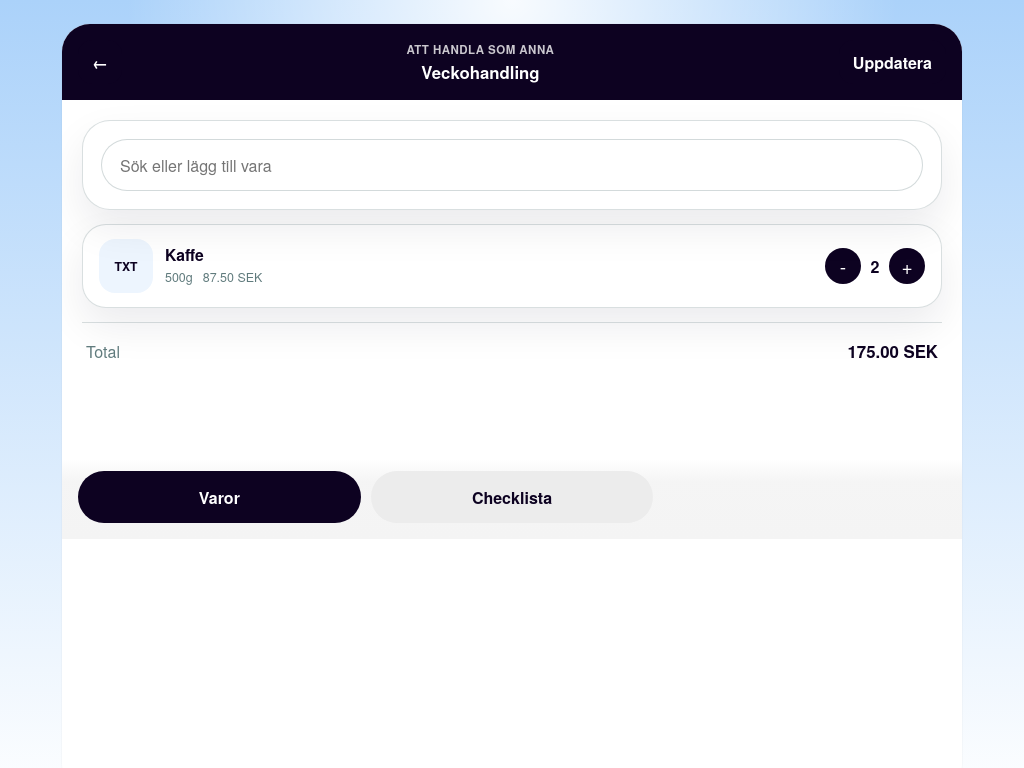
Test: ShoppingListDetailPage › batches repeated varor taps into a single quantity-adjust request
expect the text "Kaffe" is shown: met, box [165, 243, 204, 266]
expect the text "175.00 SEK" is shown: met, box [848, 339, 938, 363]
Click the button named "Öka Kaffe".
click(907, 266)  # box [889, 248, 925, 284]
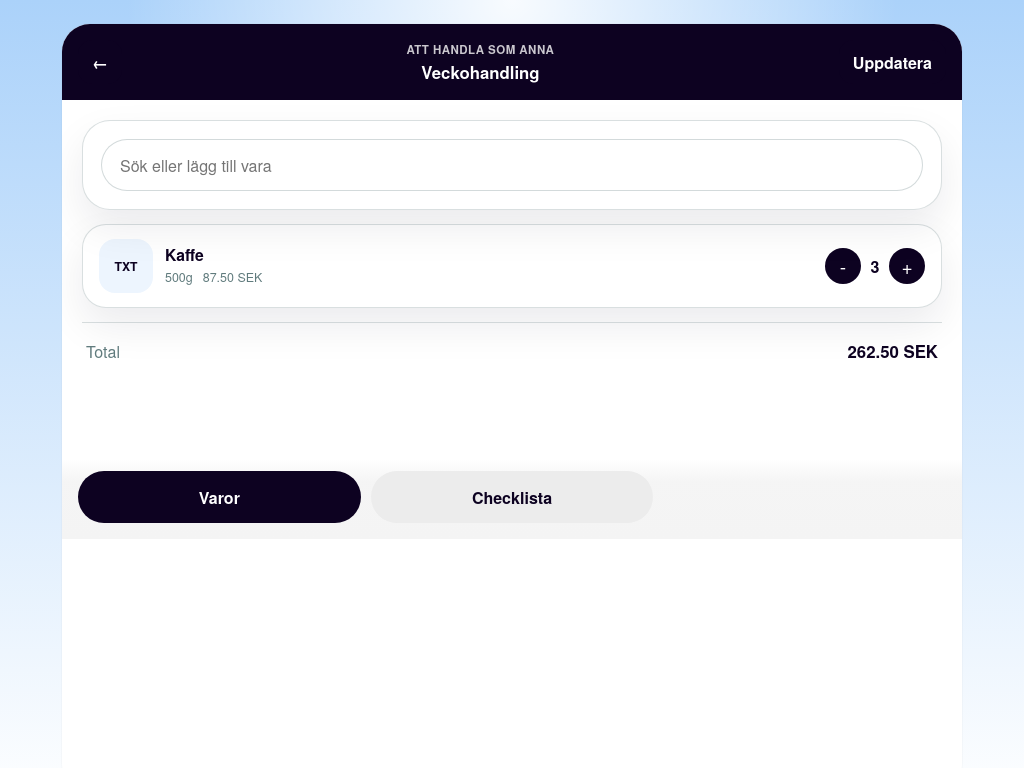
Click the button named "Öka Kaffe".
click(907, 266)  # box [889, 248, 925, 284]
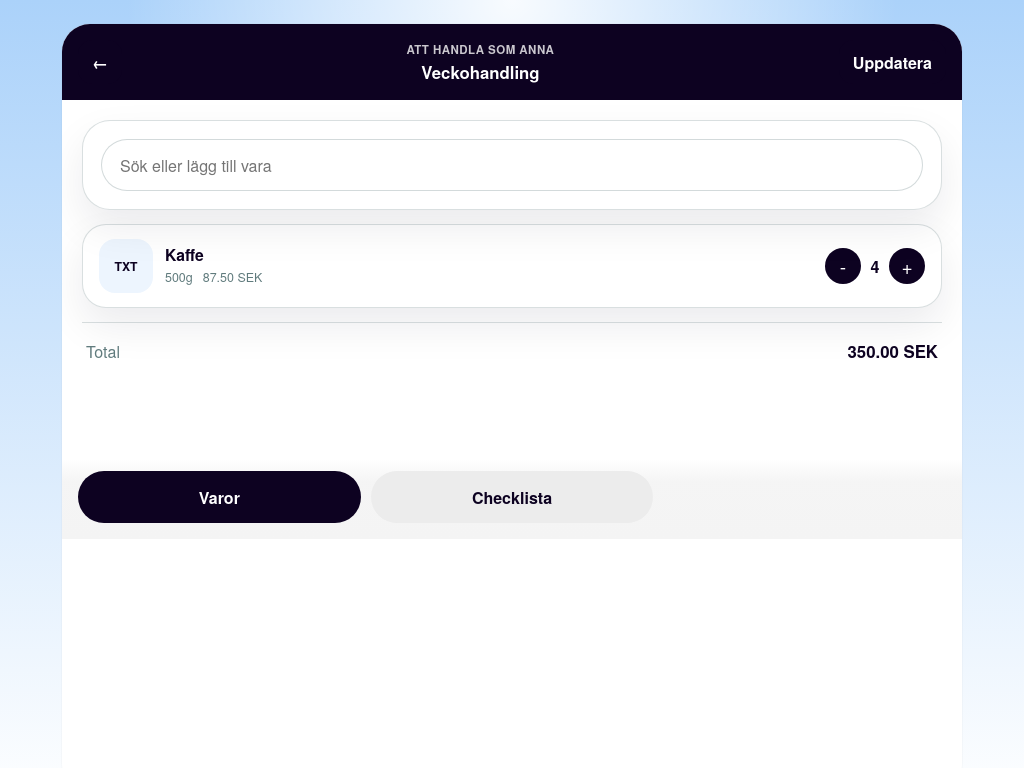
Click the button named "Öka Kaffe".
click(907, 266)  # box [889, 248, 925, 284]
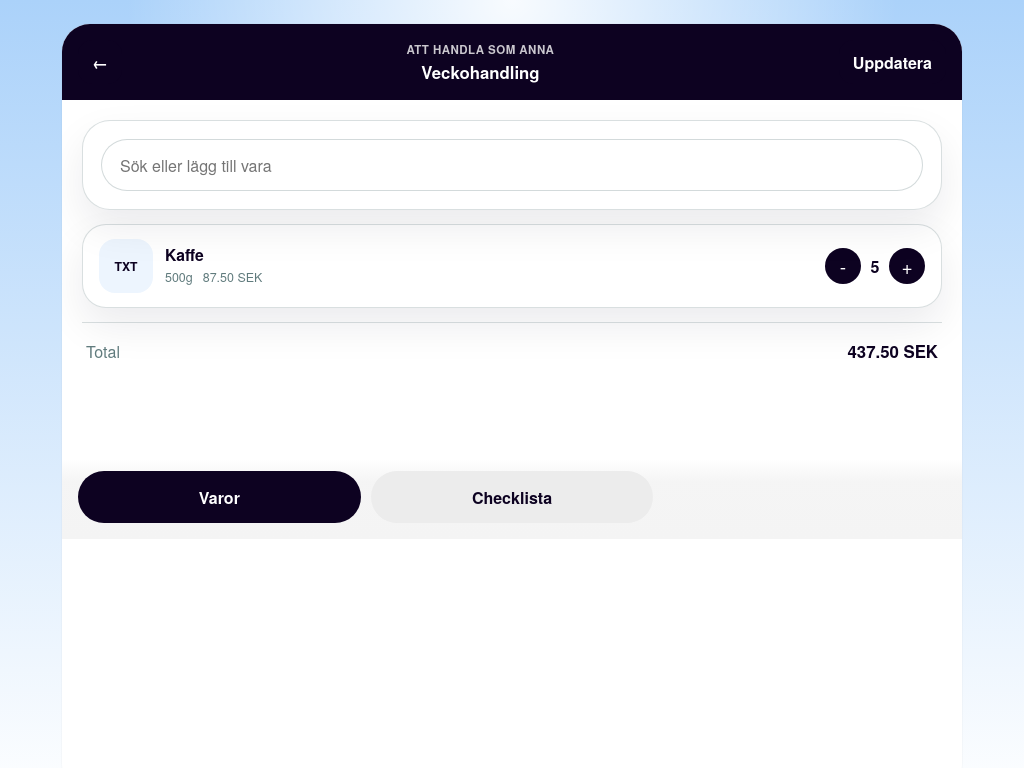
expect the element named "Antal för Kaffe" shows "5": met, box [870, 254, 879, 278]
expect the text "437.50 SEK" is shown: met, box [848, 339, 938, 363]
